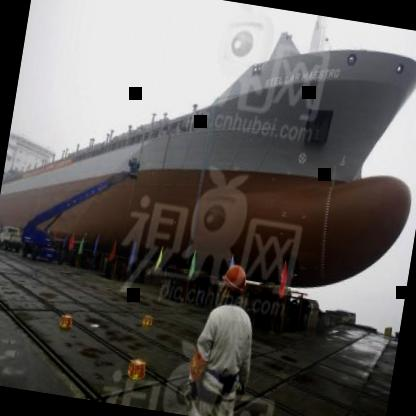helmet: (218, 259, 249, 305)
